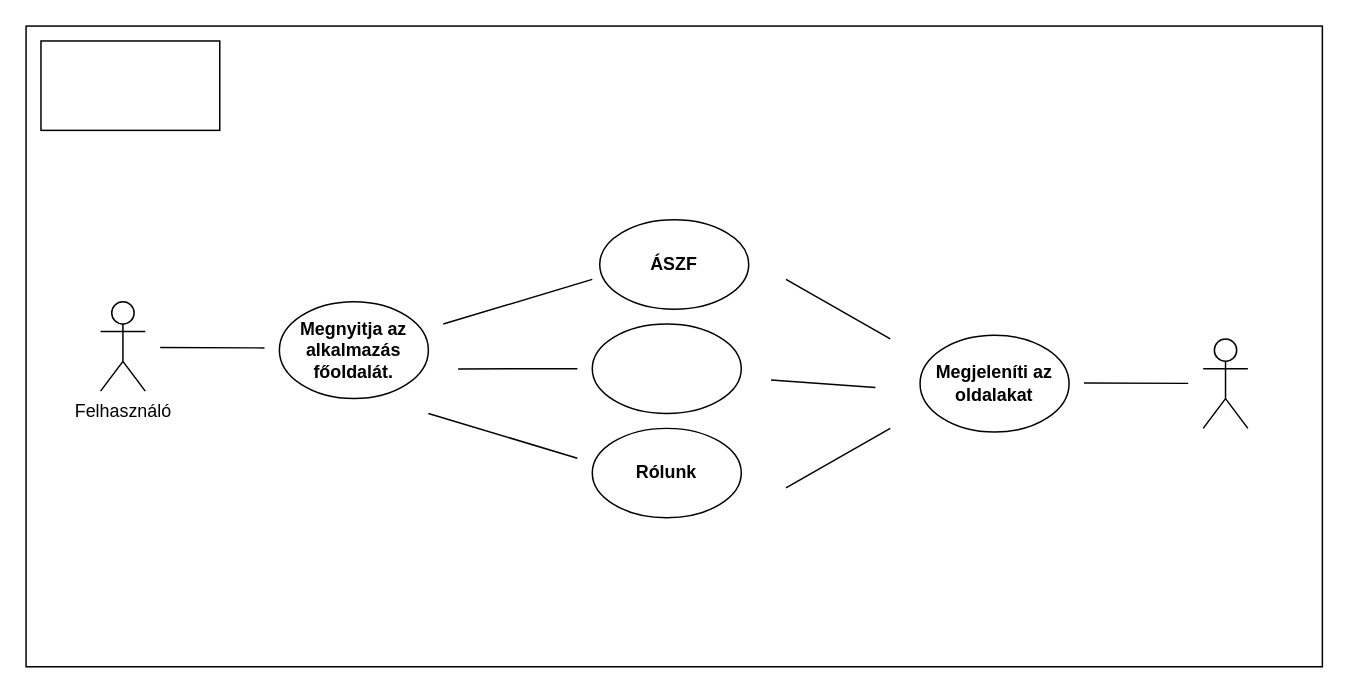
Some shapes in this 1348 by 693 pixel diagram are drawn without their labels. Here are the shapes that lost their labels. From the top down, the box of each, then its label:
(39, 39, 220, 130): ÁSZF Adatvédelem Rólunk
(591, 323, 741, 413): Adatvédelmi Tájékozató
(1202, 337, 1248, 428): Rendszer
